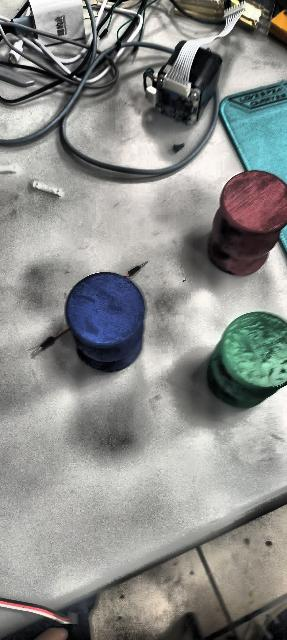blue: (66, 270, 146, 372)
green: (206, 311, 287, 409)
red: (202, 173, 287, 274)
